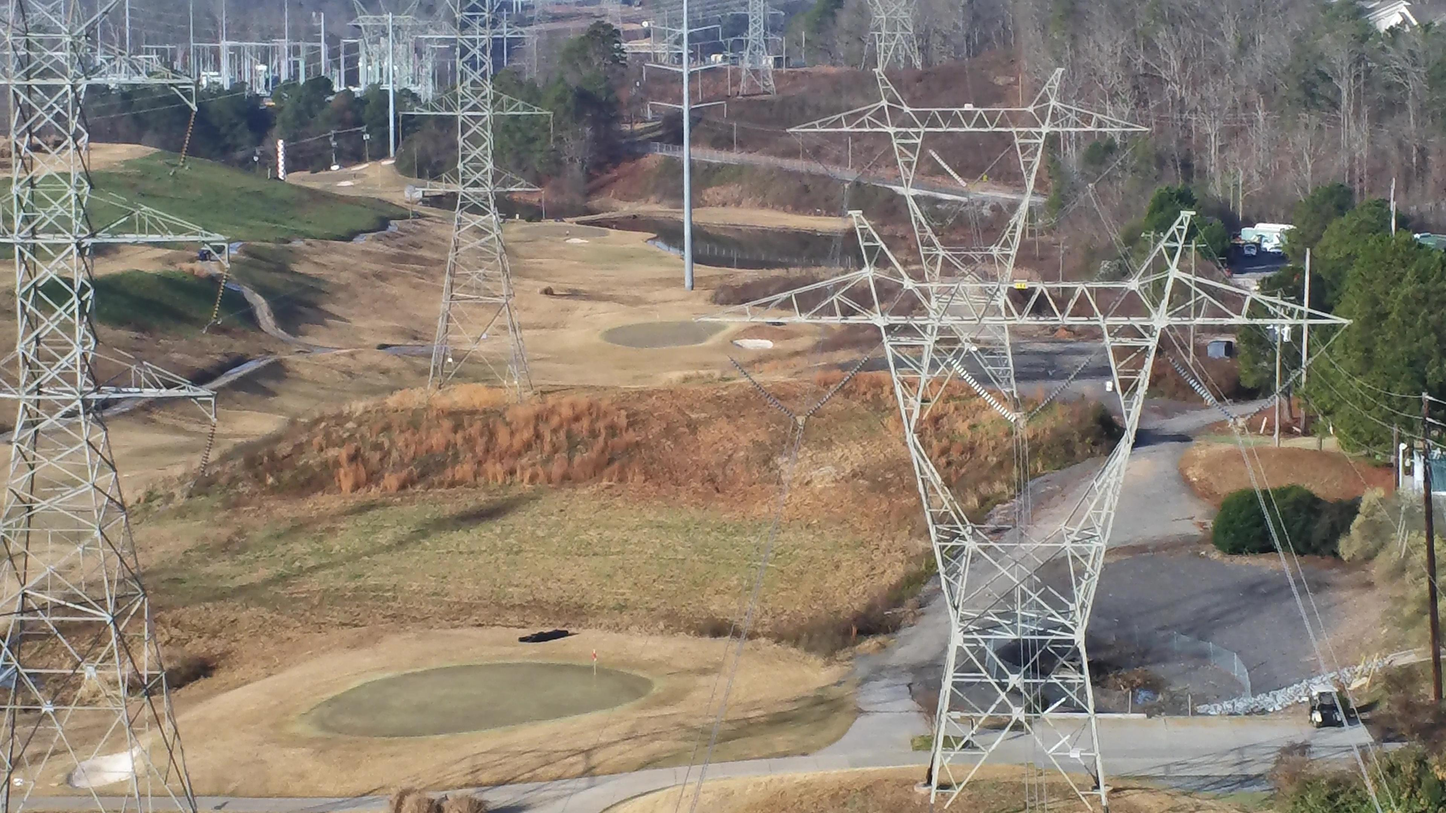power_tower: (687, 210, 1358, 813), (0, 0, 231, 813), (784, 67, 1150, 421), (400, 0, 557, 402), (346, 0, 425, 83), (728, 0, 784, 95), (862, 0, 922, 71), (602, 0, 632, 40)
